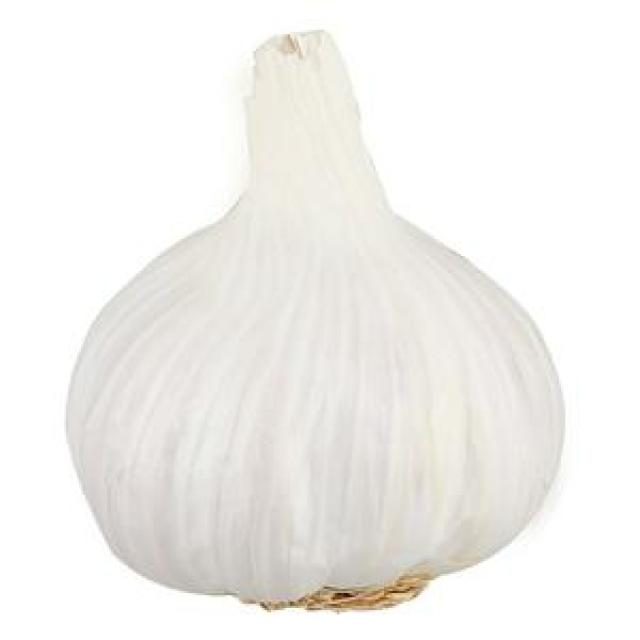garlic: (37, 216, 610, 614)
